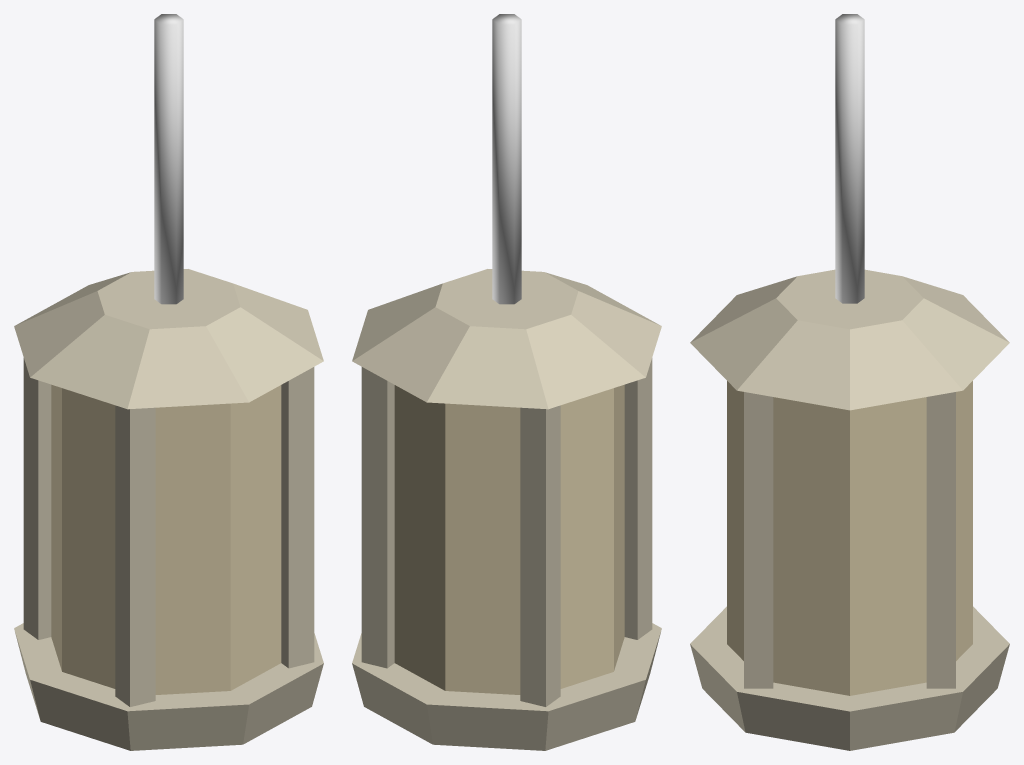
The model's file is bone_lantern_v0.glb.
3 renders of one model, left to right at view 1: azimuth 30°, elevation 25°; view 2: azimuth 150°, elevation 25°; view 3: azimuth 270°, elevation 25°, orthographic.
Parts seen in each view (by area): view 1: bone_lantern_v0; view 2: bone_lantern_v0; view 3: bone_lantern_v0.
Boxes of the visible parts, x1=… form: bone_lantern_v0: x1=14, y1=14, x2=323, y2=750; bone_lantern_v0: x1=352, y1=14, x2=661, y2=750; bone_lantern_v0: x1=690, y1=14, x2=1009, y2=750.
Size of the model in its own units: 0.26 by 0.6 by 0.26.
